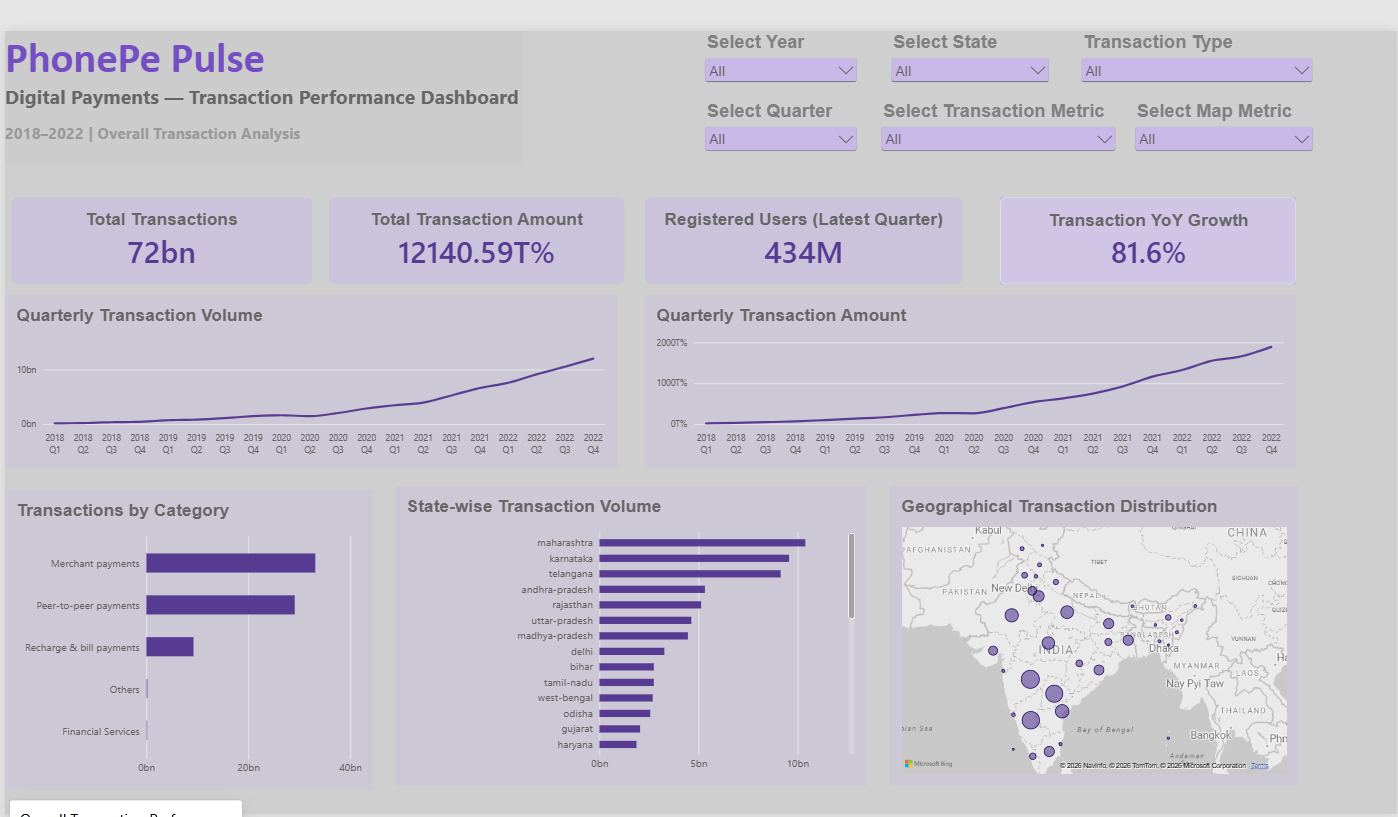

What the dashboard file says about the page in this screenshot:
{"tool":"powerbi","page":{"name":"Overall Transaction Performance","canvas":[1920,1080],"ordinal":0},"visuals":[{"type":"cardVisual","fields":{"Data":["aggregated_transaction.Total Transactions"]},"box":[8,230,415,120],"z":0},{"type":"cardVisual","fields":{"Data":["aggregated_transaction.Total Transaction Amount"]},"box":[446,230,408.3,120],"z":1000},{"type":"cardVisual","fields":{"Data":["map_user.Registered Users (Latest Quarter)"]},"box":[882,230,438.3,120],"z":2000},{"type":"lineChart","title":"Quarterly Transaction Volume","fields":{"Category":["DimQuarter.year_quarter"],"Y":["aggregated_transaction.Total Transactions"]},"box":[0,364,845,240],"z":3000},{"type":"clusteredBarChart","title":"Transactions by Category","fields":{"Category":["aggregated_transaction.trans_type"],"Y":["aggregated_transaction.Total Transactions"]},"box":[0,632,508.3,413.3],"z":4000},{"type":"clusteredBarChart","title":"State-wise Transaction Volume","fields":{"Category":["aggregated_transaction.states"],"Y":["aggregated_transaction.Selected Transaction Metric"]},"box":[538,628,650,413.3],"z":5000},{"type":"slicer","fields":{"Values":["DimQuarter.year_quarter"]},"box":[960,94,220,88],"z":6000},{"type":"lineChart","title":"Quarterly Transaction Amount ","fields":{"Category":["DimQuarter.year_quarter"],"Y":["aggregated_transaction.Total Transaction Amount"]},"box":[882,364,898.3,240],"z":7000},{"type":"map","title":"Geographical Transaction Distribution","fields":{"Category":["DimState.states"],"Size":["map_transaction.Selected Map Metric"]},"box":[1220,628,563.3,413.3],"z":8000},{"type":"slicer","fields":{"Values":["DimState.states"]},"box":[1218,0,228,134],"z":9000},{"type":"textbox","box":[0,0,714,186],"z":10000},{"type":"slicer","title":"Select Year","fields":{"Values":["DimQuarter.Year"]},"box":[960,0,220,102],"z":10001},{"type":"slicer","fields":{"Values":["aggregated_transaction.trans_type"]},"box":[1480,0,330,132],"z":10002},{"type":"slicer","fields":{"Values":["Transaction Metric.Metric"]},"box":[1204,94,334,88],"z":10003},{"type":"slicer","title":"Select Map Metrics","fields":{"Values":["Map Metric.Metric"]},"box":[1554,94,256,88],"z":10004},{"type":"cardVisual","title":"Transaction Growth (YoY) ","fields":{"Data":["aggregated_transaction.Transaction YoY Growth"]},"box":[1372,230,408,120],"z":10005}]}

Visuals, with their boxes on the page's 1920x1080 design canvas (x1, y1, x2, y2). These are canvas units, not pixel positions in the 1398x817 screenshot, which may show the page scaled, cropped or inside an application window:
cardVisual - aggregated_transaction.Total Transactions: bbox=[8, 230, 423, 350]
cardVisual - aggregated_transaction.Total Transaction Amount: bbox=[446, 230, 854, 350]
cardVisual - map_user.Registered Users (Latest Quarter): bbox=[882, 230, 1320, 350]
"Quarterly Transaction Volume" lineChart: bbox=[0, 364, 845, 604]
"Transactions by Category" clusteredBarChart: bbox=[0, 632, 508, 1045]
"State-wise Transaction Volume" clusteredBarChart: bbox=[538, 628, 1188, 1041]
slicer - DimQuarter.year_quarter: bbox=[960, 94, 1180, 182]
"Quarterly Transaction Amount " lineChart: bbox=[882, 364, 1780, 604]
"Geographical Transaction Distribution" map: bbox=[1220, 628, 1783, 1041]
slicer - DimState.states: bbox=[1218, 0, 1446, 134]
textbox: bbox=[0, 0, 714, 186]
"Select Year" slicer: bbox=[960, 0, 1180, 102]
slicer - aggregated_transaction.trans_type: bbox=[1480, 0, 1810, 132]
slicer - Transaction Metric.Metric: bbox=[1204, 94, 1538, 182]
"Select Map Metrics" slicer: bbox=[1554, 94, 1810, 182]
"Transaction Growth (YoY) " cardVisual: bbox=[1372, 230, 1780, 350]
